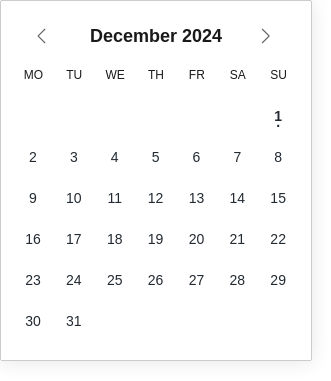
Test: Datepicker.svelte — full behaviour › month wrap-around updates year correctly
This screenshot has width=331, height=381.
Click the link with class "icon-next-month" at (267, 36), box [249, 18, 285, 54]
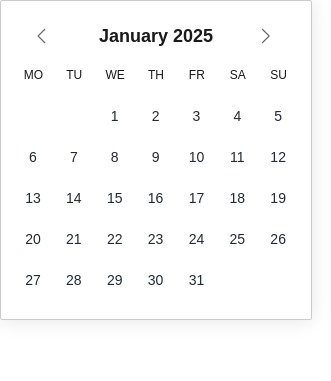
Check: the text "January 2025" is shown, box [99, 23, 213, 50]
Click the link with class "icon-previous-month" at (45, 36), box [27, 18, 63, 54]
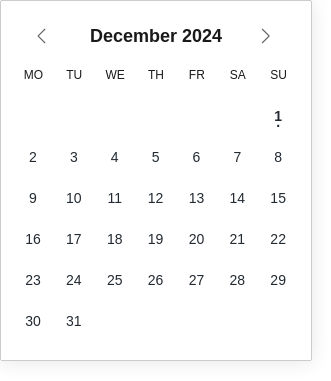
Check: the text "December 2024" is shown, box [90, 23, 222, 50]
